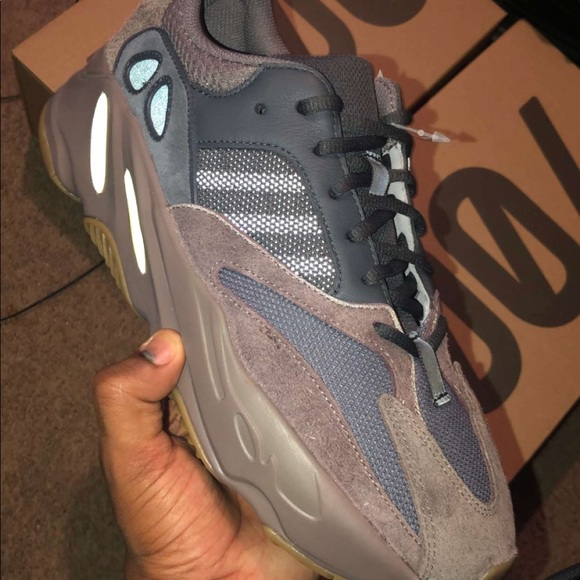adidas Yeezy 700 Mauve: (20, 3, 547, 580)
